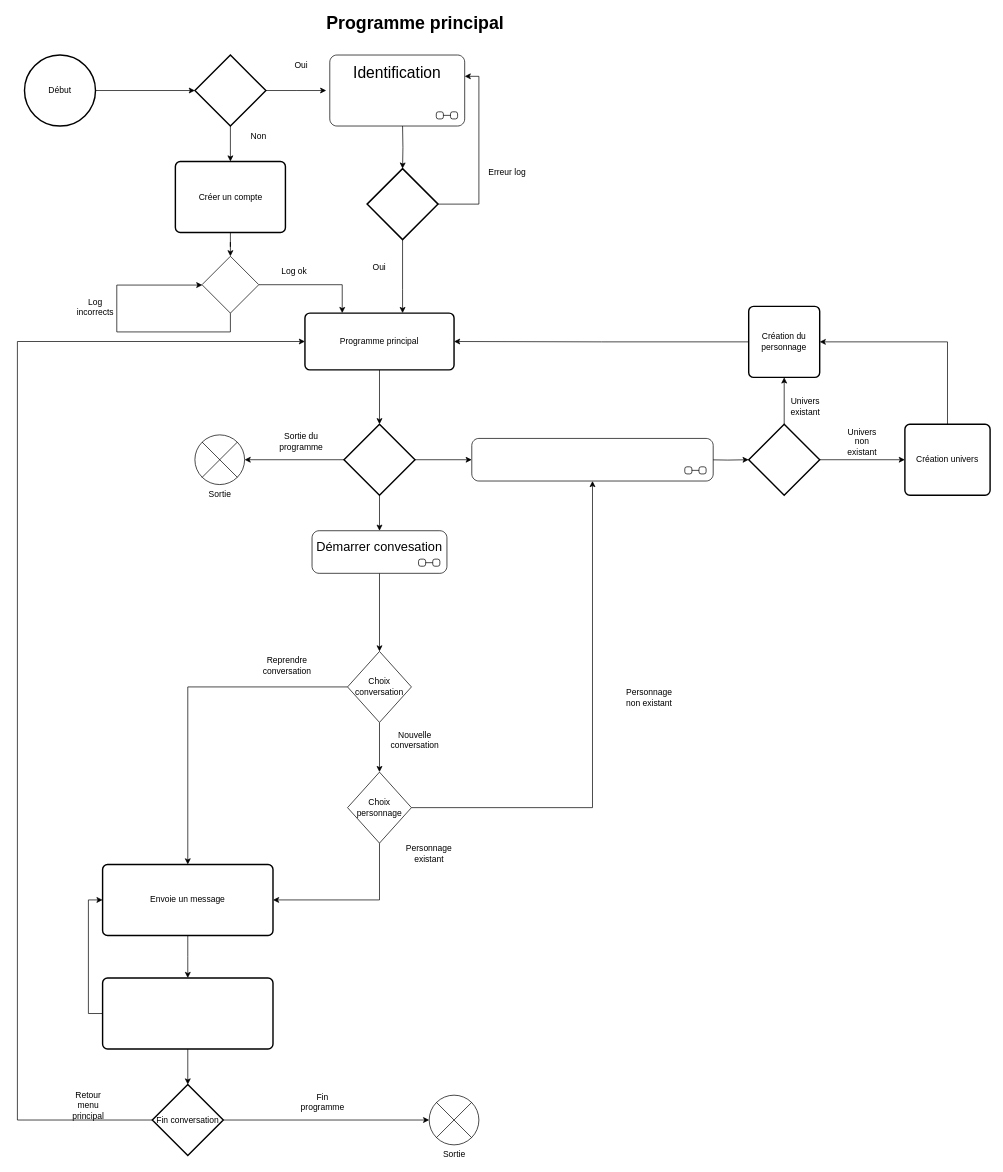
The diagram is 1003 pixels wide and 1172 high, and some of its shapes have lost their labels. Each missing label, with the centre of its shape:
"Choix fonctionnalité" belongs at point (379, 459).
"Choix univers" belongs at point (784, 459).
"Création personnage" belongs at point (592, 459).
"Entrer logs" belongs at point (230, 284).
"Identifcation valide" belongs at point (402, 204).
"Possède un compte" belongs at point (230, 90).
"Reçoit une réponse" belongs at point (187, 1013).
